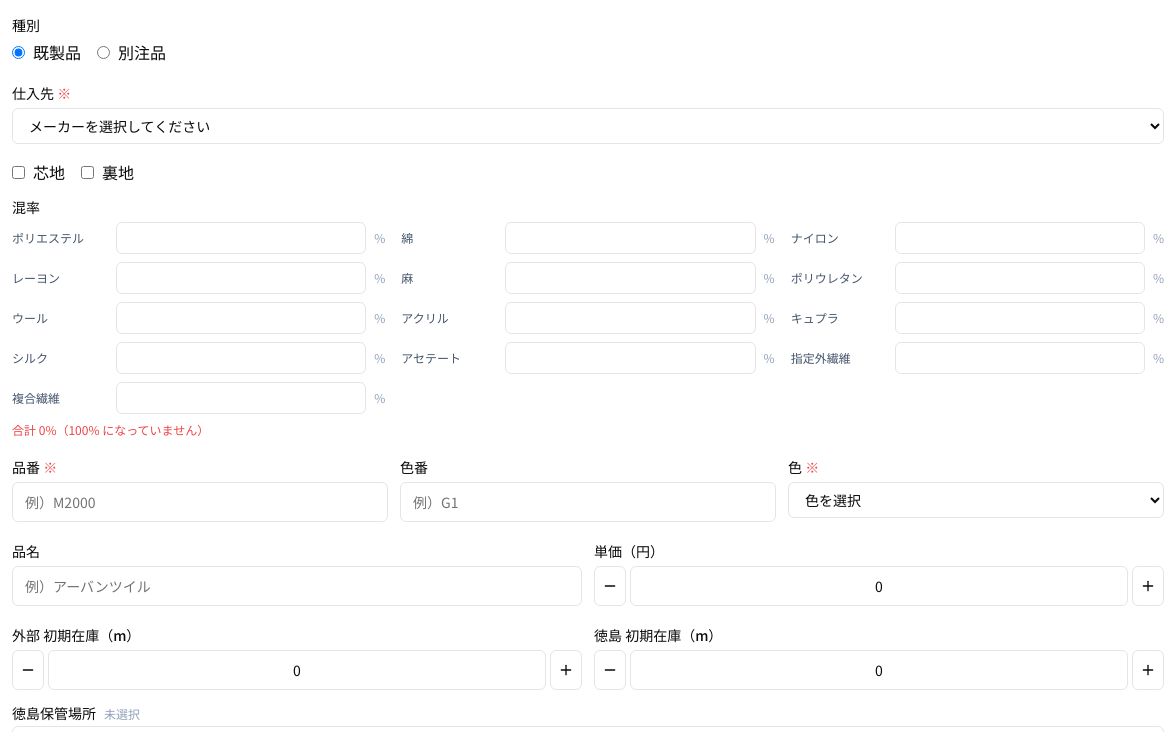
Test: ProductForm 混率 › 数値にならない文字は入力できない
Type "5a0" into the field labelled "ナイロン" at (1020, 238), box [895, 222, 1145, 254]
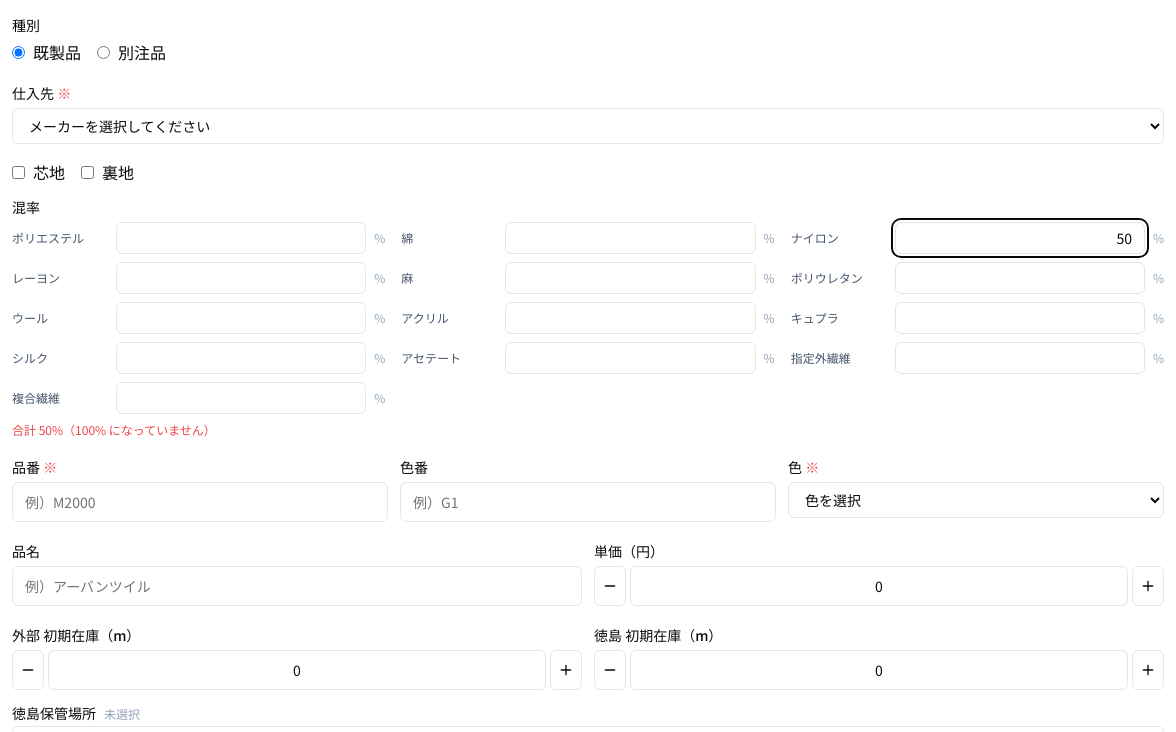
Result: the field labelled "ナイロン" holds "50" at [895, 222, 1145, 254]
